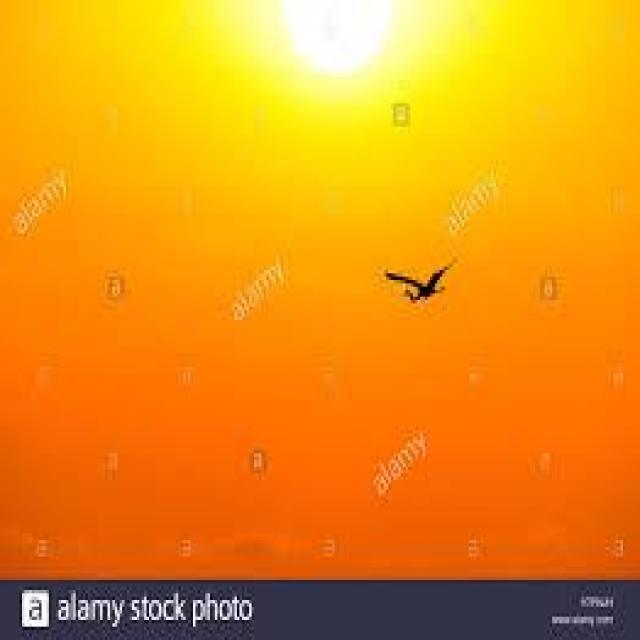bird: (379, 248, 464, 312)
